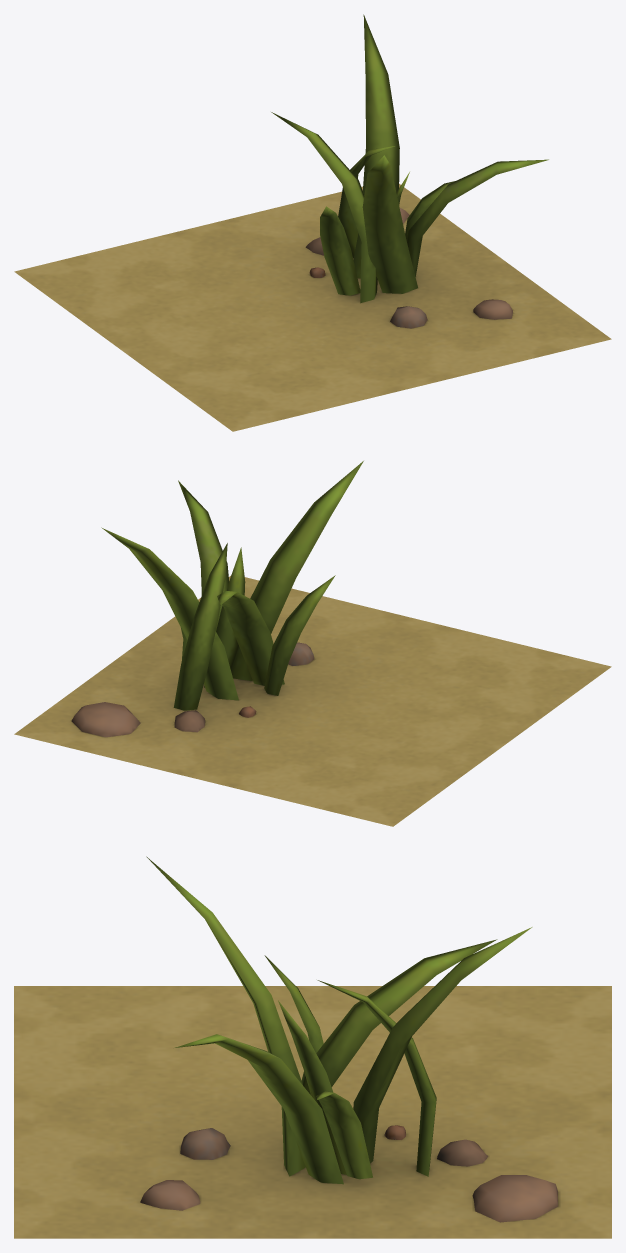
The model's file is M-SolHerbe1.FBX.
The picture shows the model from 3 angles, top to bottom: view 1: azimuth 30°, elevation 25°; view 2: azimuth 150°, elevation 25°; view 3: azimuth 270°, elevation 25°; orthographic projection. The views are drawn at different scales.
Parts seen in each view (by area): view 1: Sol_Herbe1; view 2: Sol_Herbe1; view 3: Sol_Herbe1.
Boxes of the visible parts, x1,y1,x2,y2 form: Sol_Herbe1: (14, 14, 611, 431); Sol_Herbe1: (14, 461, 611, 826); Sol_Herbe1: (14, 856, 611, 1238).
Size of the model in its own units: 2 by 1.18 by 2.
